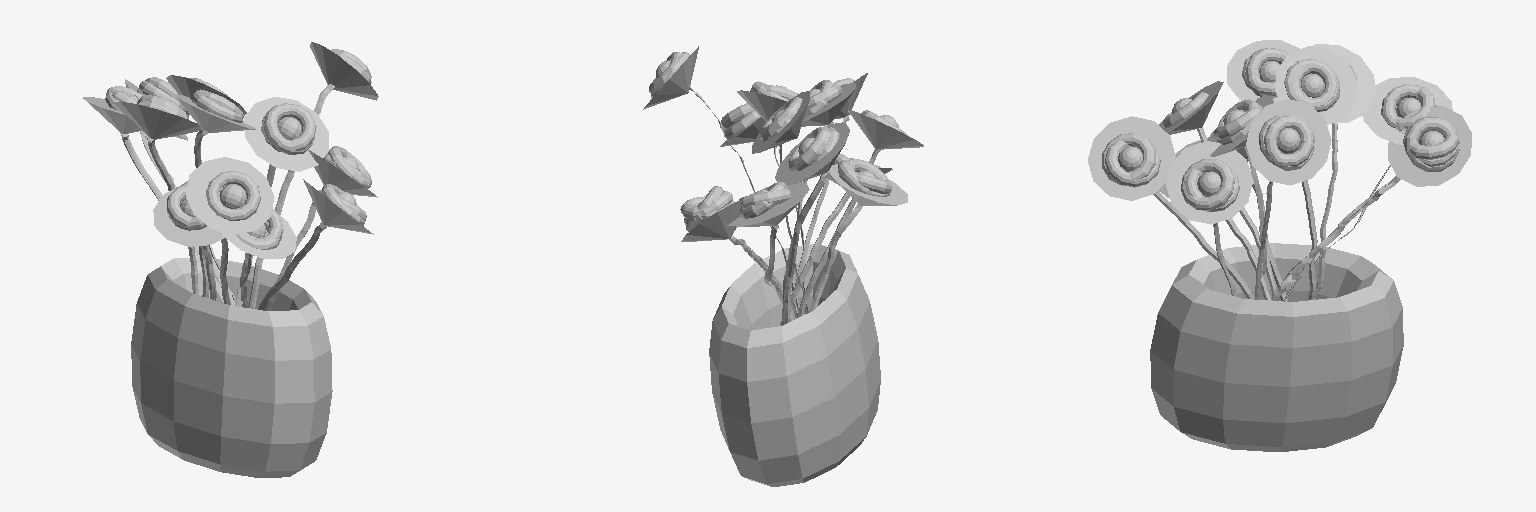
Rendered from flower3.obj.
3 views of the same model, side by side, from view 1: azimuth 30°, elevation 25°; view 2: azimuth 150°, elevation 25°; view 3: azimuth 270°, elevation 25° (orthographic).
Visible parts, largest first — view 1: group[number redacted], group[number redacted], group[number redacted], group[number redacted], group[number redacted], group[number redacted], group[number redacted], group[number redacted], group[number redacted], group[number redacted], group[number redacted], group[number redacted] (+10 smaller); view 2: group[number redacted], group[number redacted], group[number redacted], group[number redacted], group[number redacted], group[number redacted], group[number redacted], group[number redacted], group[number redacted], group[number redacted], group[number redacted], group[number redacted] (+4 smaller); view 3: group[number redacted], group[number redacted], group[number redacted], group[number redacted], group[number redacted], group[number redacted], group[number redacted], group[number redacted], group[number redacted], group[number redacted], group[number redacted], group[number redacted] (+17 smaller).
Part boxes in pixels (left/top/right/bottom): group[number redacted]: left=131, top=257, right=332, bottom=477; group[number redacted]: left=186, top=157, right=274, bottom=234; group[number redacted]: left=244, top=97, right=328, bottom=171; group[number redacted]: left=310, top=42, right=378, bottom=100; group[number redacted]: left=113, top=101, right=200, bottom=139; group[number redacted]: left=206, top=171, right=260, bottom=220; group[number redacted]: left=153, top=188, right=224, bottom=246; group[number redacted]: left=303, top=179, right=373, bottom=234; group[number redacted]: left=174, top=94, right=255, bottom=132; group[number redacted]: left=221, top=216, right=296, bottom=258; group[number redacted]: left=308, top=150, right=377, bottom=197; group[number redacted]: left=264, top=104, right=313, bottom=154; group[number redacted]: left=709, top=244, right=880, bottom=486; group[number redacted]: left=775, top=123, right=849, bottom=184; group[number redacted]: left=848, top=110, right=923, bottom=149; group[number redacted]: left=681, top=199, right=742, bottom=241; group[number redacted]: left=727, top=182, right=809, bottom=226; group[number redacted]: left=643, top=46, right=698, bottom=109; group[number redacted]: left=784, top=171, right=830, bottom=324; group[number redacted]: left=752, top=91, right=809, bottom=153; group[number redacted]: left=829, top=164, right=907, bottom=205; group[number redacted]: left=788, top=126, right=828, bottom=171; group[number redacted]: left=802, top=83, right=855, bottom=125; group[number redacted]: left=809, top=204, right=862, bottom=312; group[number redacted]: left=1150, top=243, right=1403, bottom=451; group[number redacted]: left=1246, top=99, right=1331, bottom=185; group[number redacted]: left=1088, top=116, right=1175, bottom=200; group[number redacted]: left=1166, top=141, right=1253, bottom=224; group[number redacted]: left=1388, top=106, right=1471, bottom=186; group[number redacted]: left=1275, top=46, right=1357, bottom=124; group[number redacted]: left=1363, top=77, right=1452, bottom=144; group[number redacted]: left=1313, top=44, right=1375, bottom=122; group[number redacted]: left=1181, top=158, right=1234, bottom=210; group[number redacted]: left=1227, top=40, right=1299, bottom=102; group[number redacted]: left=1273, top=175, right=1400, bottom=300; group[number redacted]: left=1284, top=58, right=1336, bottom=106.
Bounding box in the file's own units: 0.375 × 0.5922 × 0.5402.